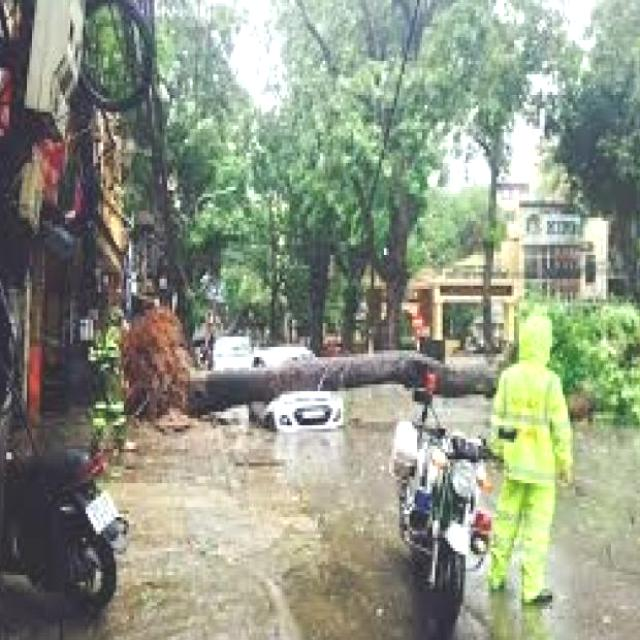fallen_object: (99, 297, 640, 436)
